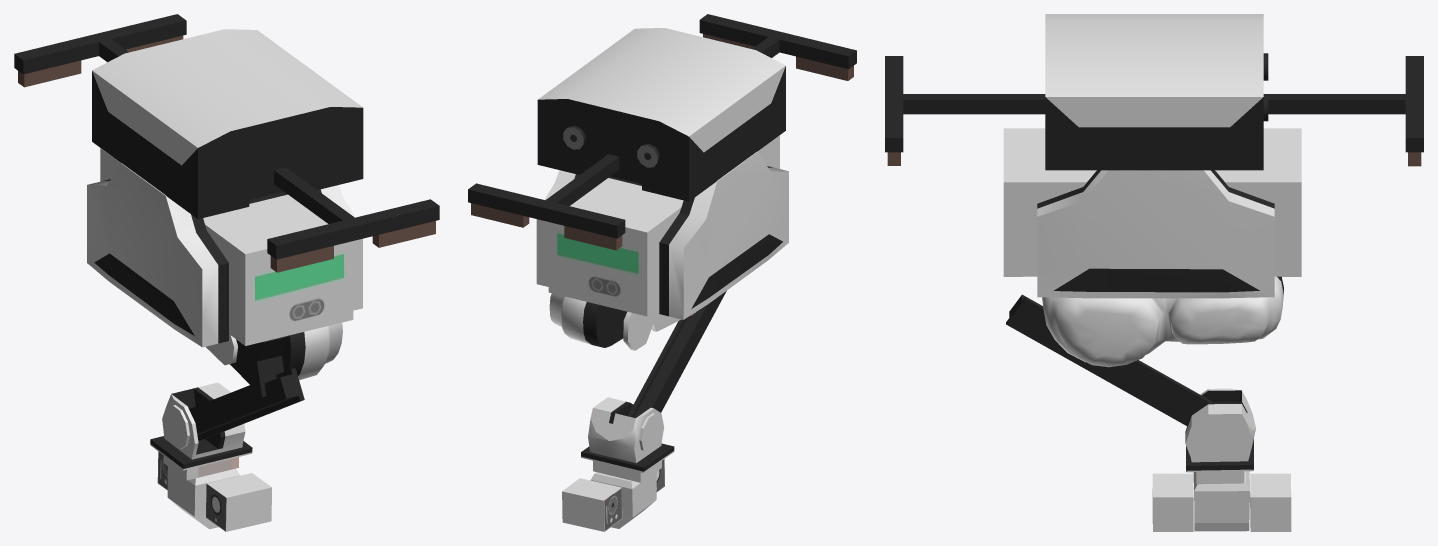
The model's file is 立磨巡检机器人.glb.
3 views of the same model, side by side, from view 1: azimuth 30°, elevation 25°; view 2: azimuth 150°, elevation 25°; view 3: azimuth 270°, elevation 25° (orthographic). The views are drawn at different scales.
Parts seen in each view (by area): view 1: 立磨巡检机体, 立磨巡检手臂, 立磨巡检摄像头; view 2: 立磨巡检机体, 立磨巡检手臂, 立磨巡检摄像头; view 3: 立磨巡检机体, 立磨巡检手臂, 立磨巡检摄像头.
Part boxes in pixels (x1=…): 立磨巡检机体: x1=14, y1=14, x2=439, y2=397; 立磨巡检手臂: x1=150, y1=368, x2=304, y2=480; 立磨巡检摄像头: x1=157, y1=451, x2=271, y2=531; 立磨巡检机体: x1=468, y1=14, x2=856, y2=350; 立磨巡检手臂: x1=581, y1=291, x2=726, y2=482; 立磨巡检摄像头: x1=562, y1=459, x2=664, y2=531; 立磨巡检机体: x1=885, y1=14, x2=1423, y2=367; 立磨巡检手臂: x1=1006, y1=294, x2=1255, y2=484; 立磨巡检摄像头: x1=1152, y1=471, x2=1291, y2=531.
Size of the model in its own units: 0.3576 by 0.9419 by 0.9645.
Materials: 1 (1 with a texture image).
